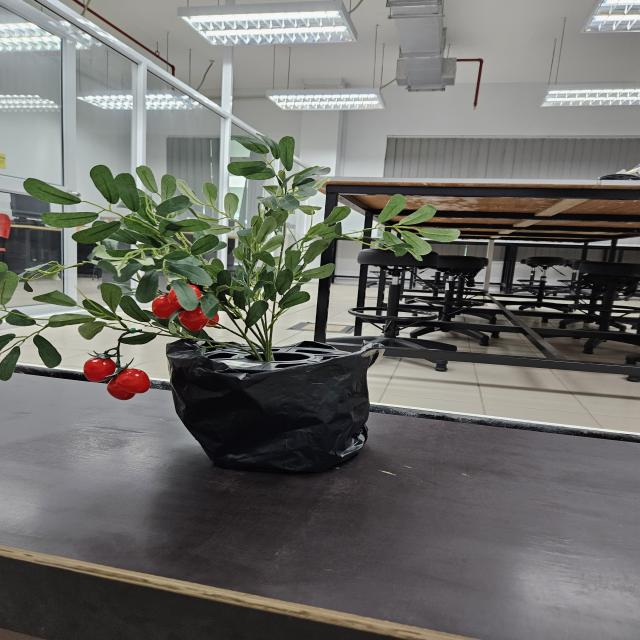Tomato: (146, 279, 223, 340), (79, 357, 152, 401)
plant: (0, 135, 462, 401)
